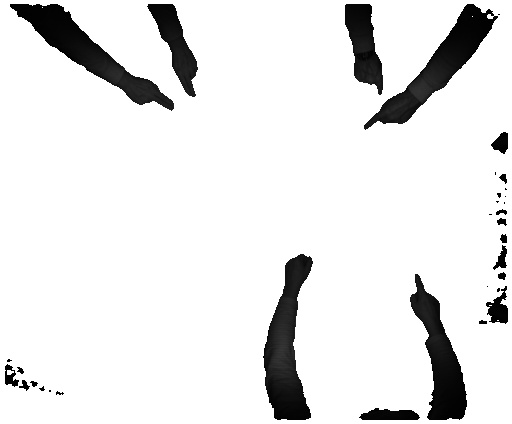fist: (280, 248, 319, 292)
hand: (408, 272, 447, 330), (365, 96, 419, 135), (120, 76, 176, 111), (352, 55, 387, 99), (172, 45, 199, 99)
